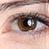eye: (18, 18, 37, 31)
